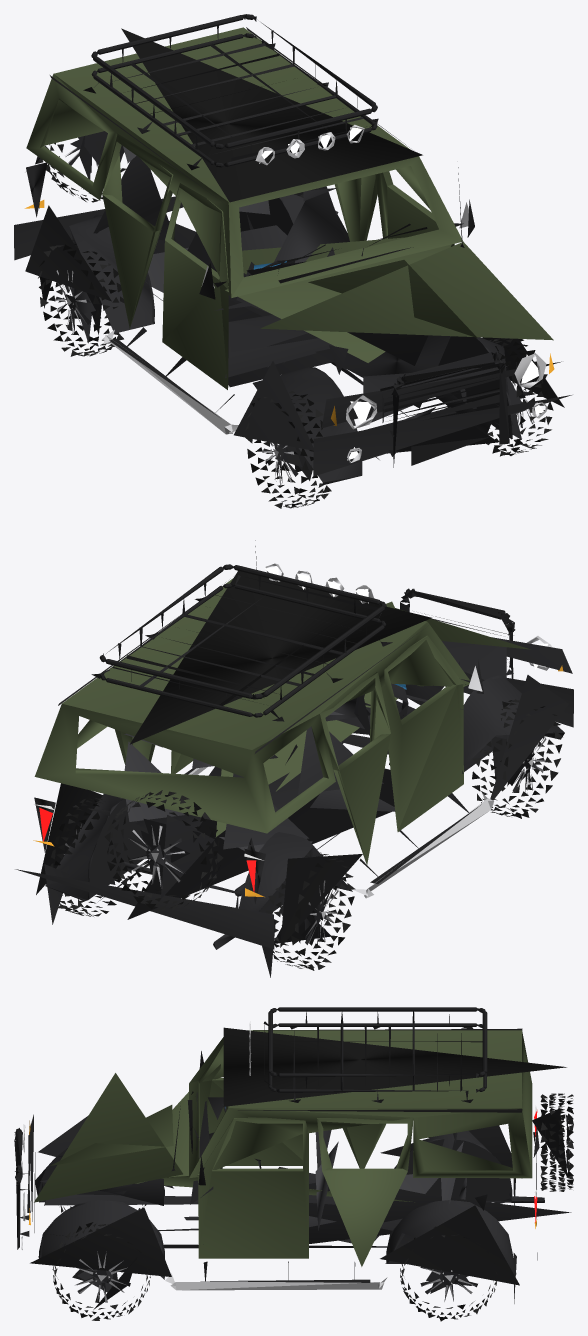
File: Car_Model_LOD3.fbx
3 views of the same model, one above another, from view 1: azimuth 30°, elevation 25°; view 2: azimuth 150°, elevation 25°; view 3: azimuth 270°, elevation 25° (orthographic). The views are drawn at different scales.
Visible parts, largest first — view 1: SM_Jeep_LOD3; view 2: SM_Jeep_LOD3; view 3: SM_Jeep_LOD3.
Part boxes in pixels (box(x1,y1,x2,y2)): SM_Jeep_LOD3: box(14, 14, 571, 508); SM_Jeep_LOD3: box(15, 540, 573, 977); SM_Jeep_LOD3: box(14, 1007, 573, 1321).
Size of the model in its own units: 2.09 by 2 by 4.39.
